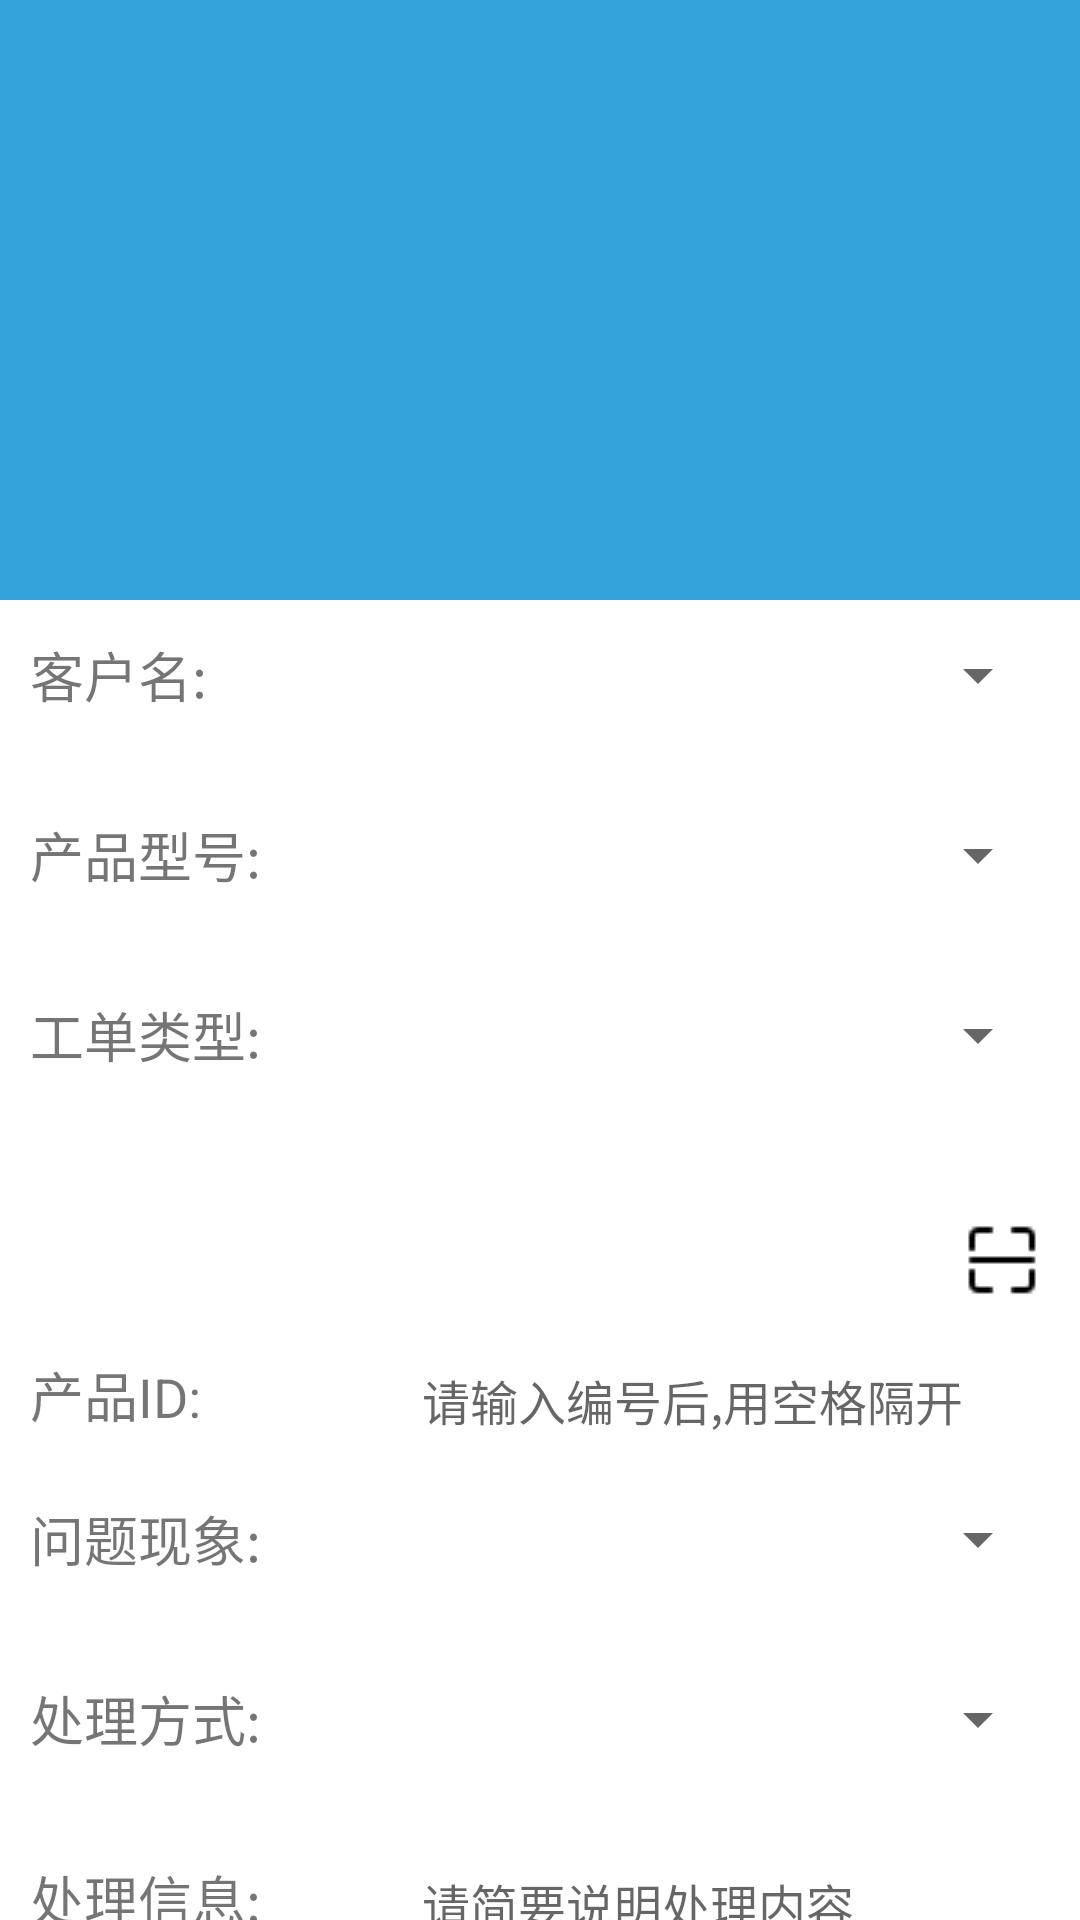

Named icons in this screenshot (1080w x 1920h) and their centers, [x,y]:
scan: [1002,1260]
